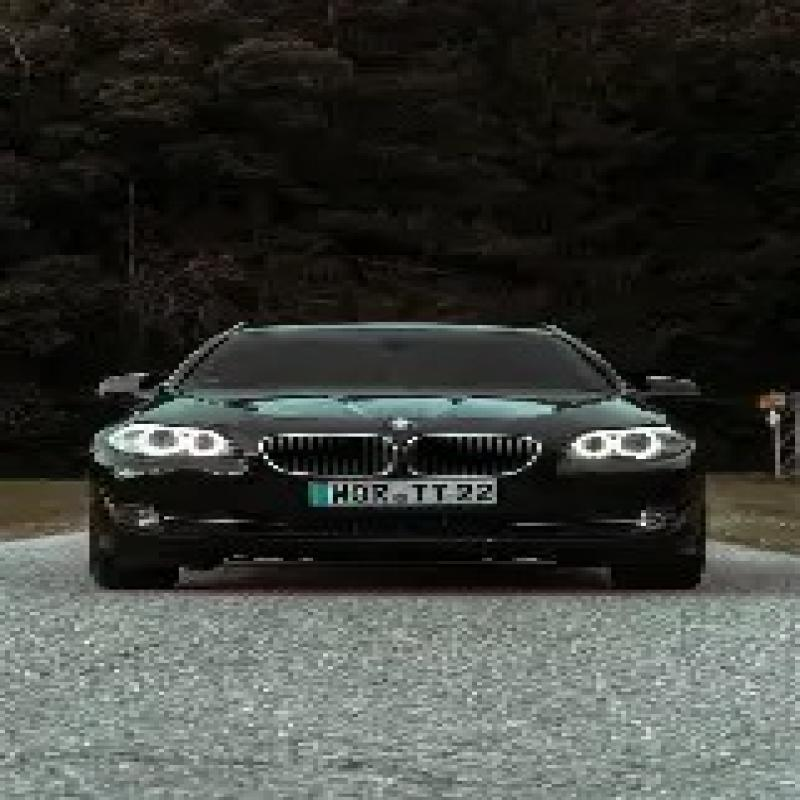license plate on a car: (309, 479, 496, 506)
